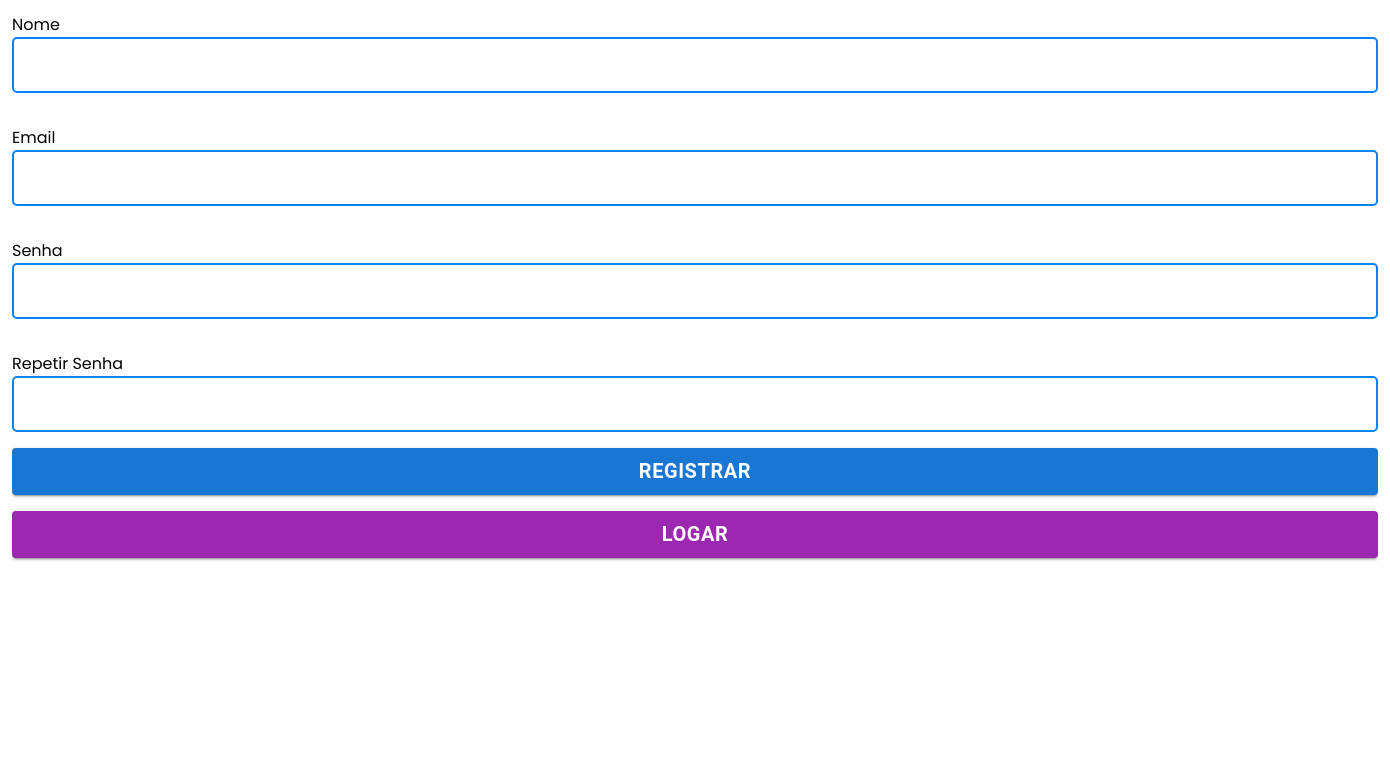
Test: Testing signup page › filling the form fields with invalid value
Click the submit button at (695,472), box [12, 448, 1378, 495]
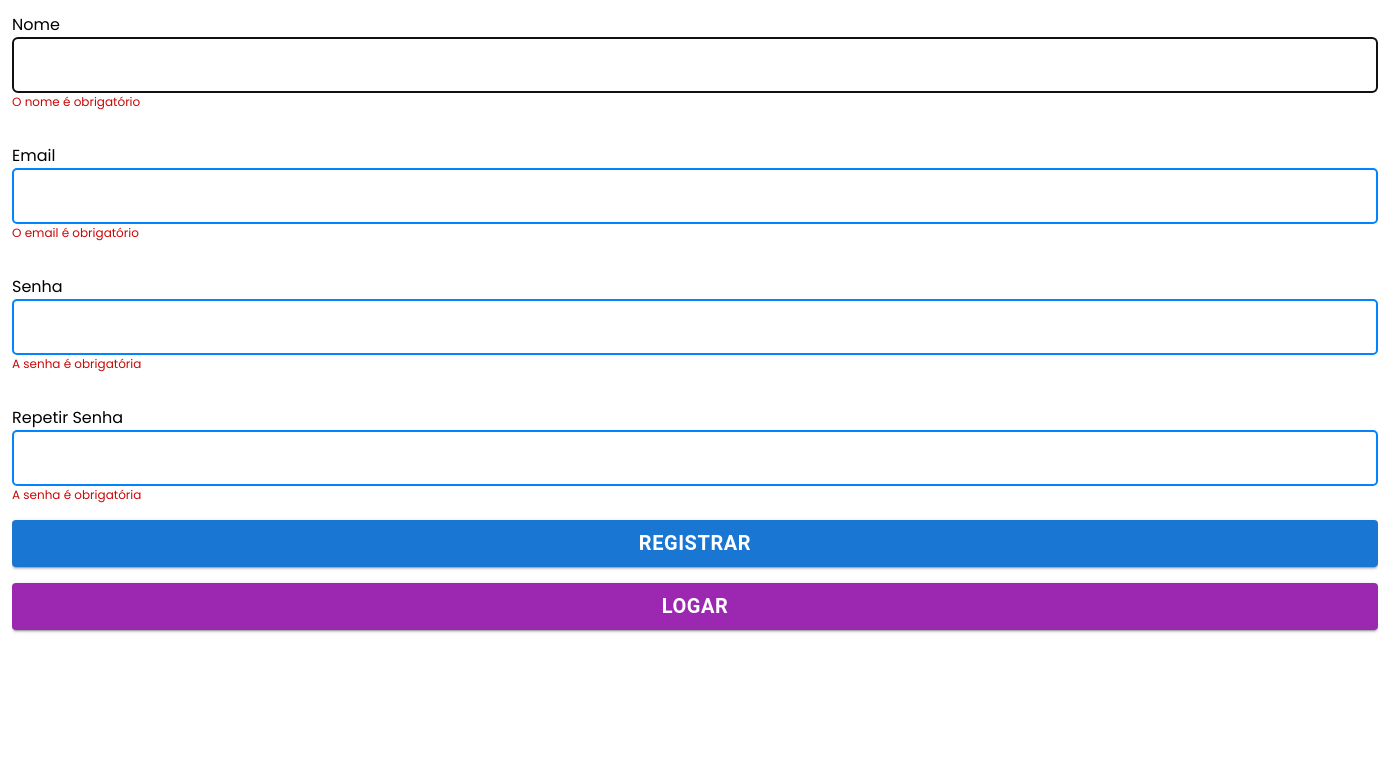
Expected: the number of elements with test id "field-error-message" is 4, [12, 93, 140, 110]; [12, 224, 139, 241]; [12, 355, 141, 372]; [12, 486, 141, 503]
Expected: the text with test id "field-error-message" reads "O nome é obrigatório", [12, 93, 140, 110]
Expected: the text with test id "field-error-message" reads "O email é obrigatório", [12, 224, 139, 241]
